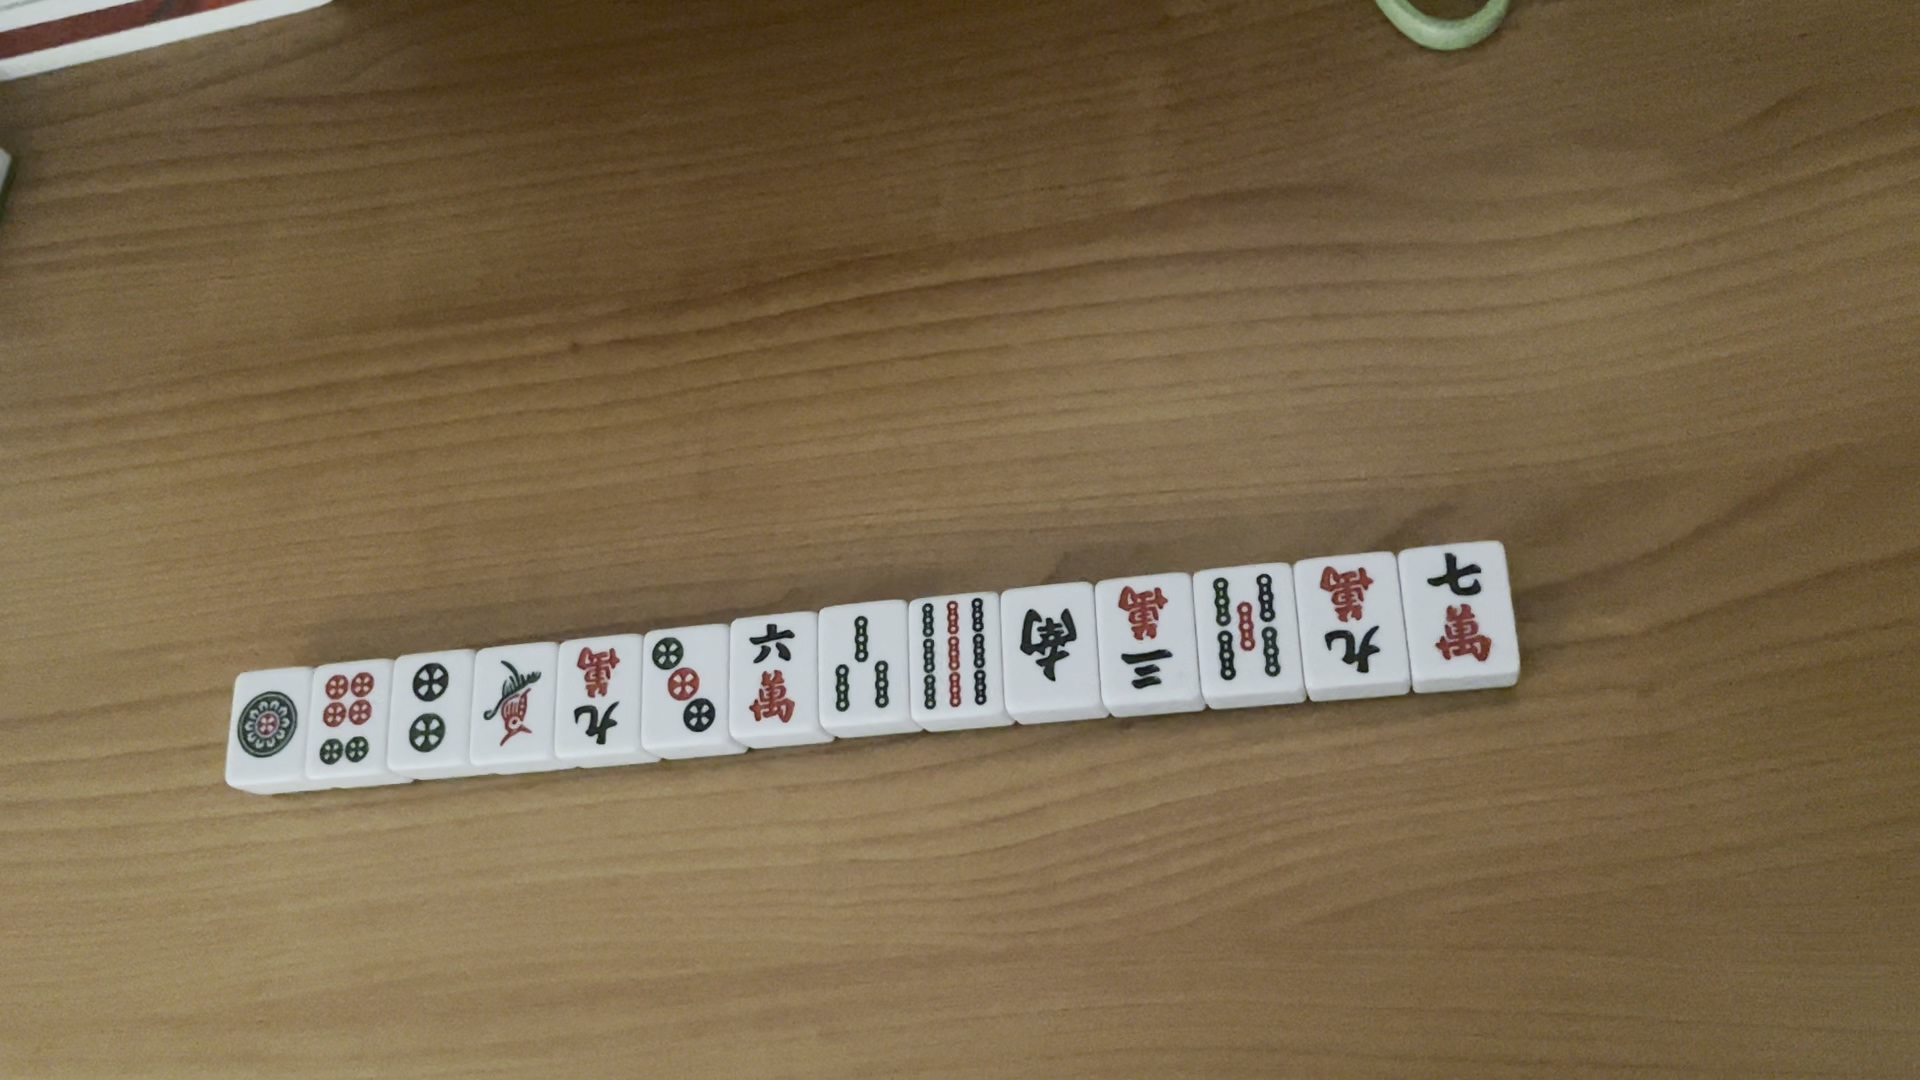b-1: (473, 651, 549, 748)
b-3: (825, 615, 895, 712)
b-5: (1211, 574, 1288, 688)
b-9: (913, 596, 993, 717)
c-3: (1112, 582, 1182, 695)
c-6: (738, 617, 803, 731)
c-7: (1416, 551, 1497, 669)
c-9: (1307, 564, 1396, 680), (560, 640, 622, 750)
d-1: (239, 684, 295, 762)
d-2: (400, 659, 455, 760)
d-3: (651, 634, 716, 737)
d-6: (318, 673, 376, 767)
honors-south: (1007, 597, 1091, 691)
